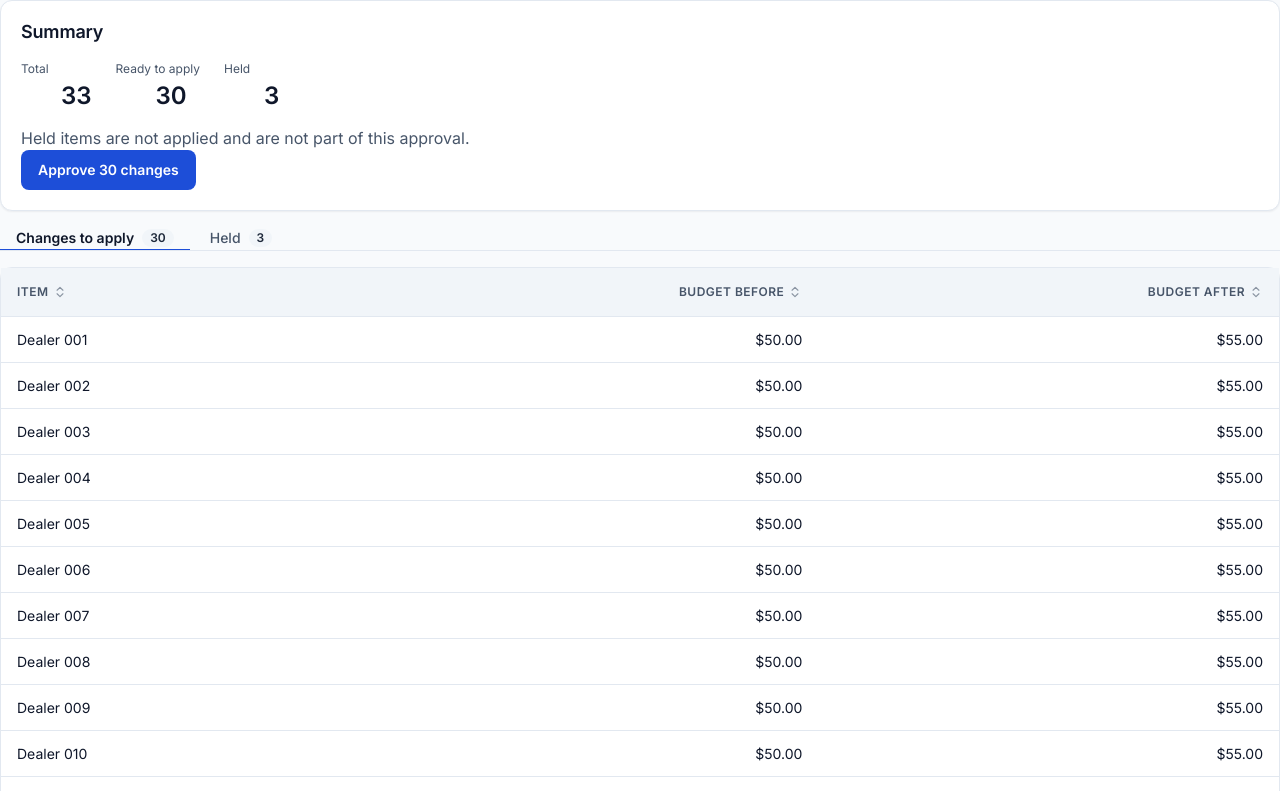
Test: BatchPreview › AC-3: held items are listed with their reason and are not counted as ready
Expected: the table does not show "Held dealer"
Press the mouse on the tab "Held 3": (241, 238) [194, 226, 288, 250]
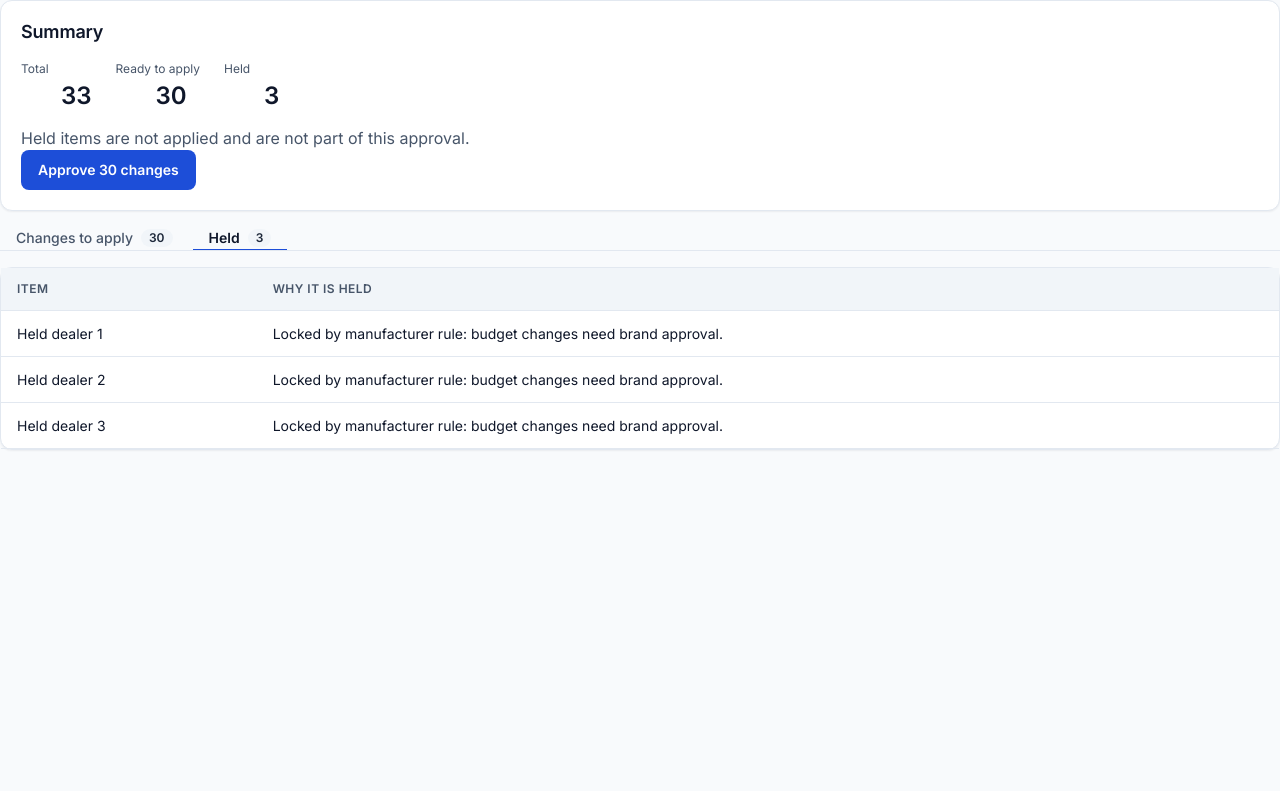
Expected: the button "Approve 30 changes" is shown, [21, 150, 196, 190]
Result: the table shows "Locked by manufacturer rule" at [273, 324, 723, 342]
